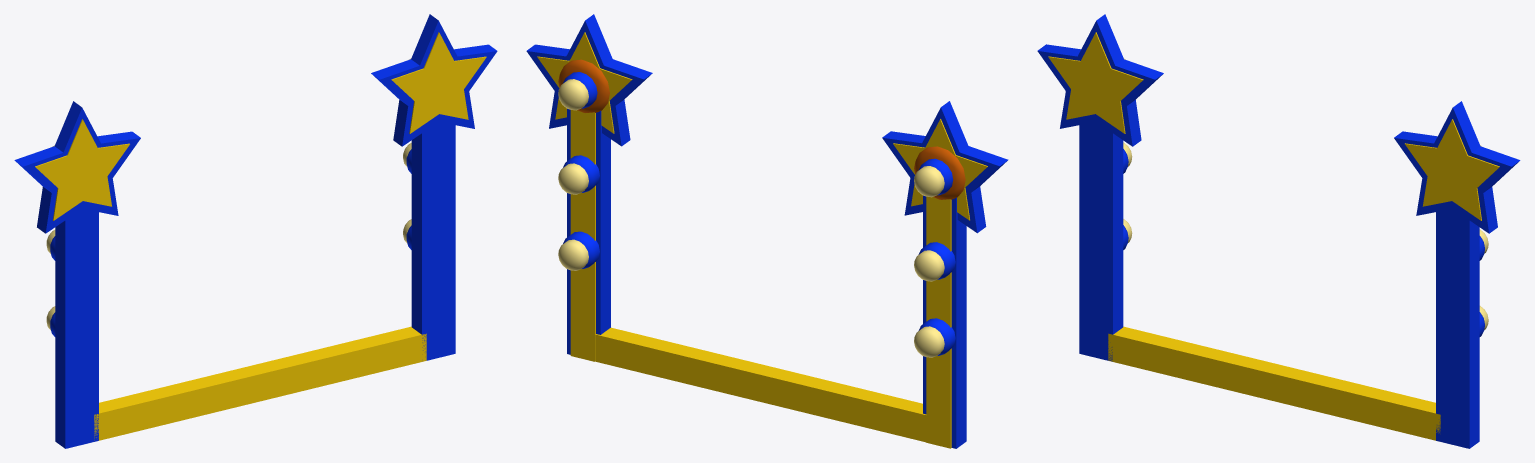
The model's file is 3D_GatePower.fbx.
3 renders of one model, left to right at view 1: azimuth 30°, elevation 25°; view 2: azimuth 150°, elevation 25°; view 3: azimuth 330°, elevation 25°, orthographic.
Parts seen in each view (by area): view 1: 3D_GatePower; view 2: 3D_GatePower; view 3: 3D_GatePower.
Part boxes in pixels (<box>): 3D_GatePower: <box>14,14,497,448</box>; 3D_GatePower: <box>526,14,1008,448</box>; 3D_GatePower: <box>1037,14,1520,448</box>.
Size of the model in its own units: 406 by 276 by 40.37.
1 material, 1 textured.
